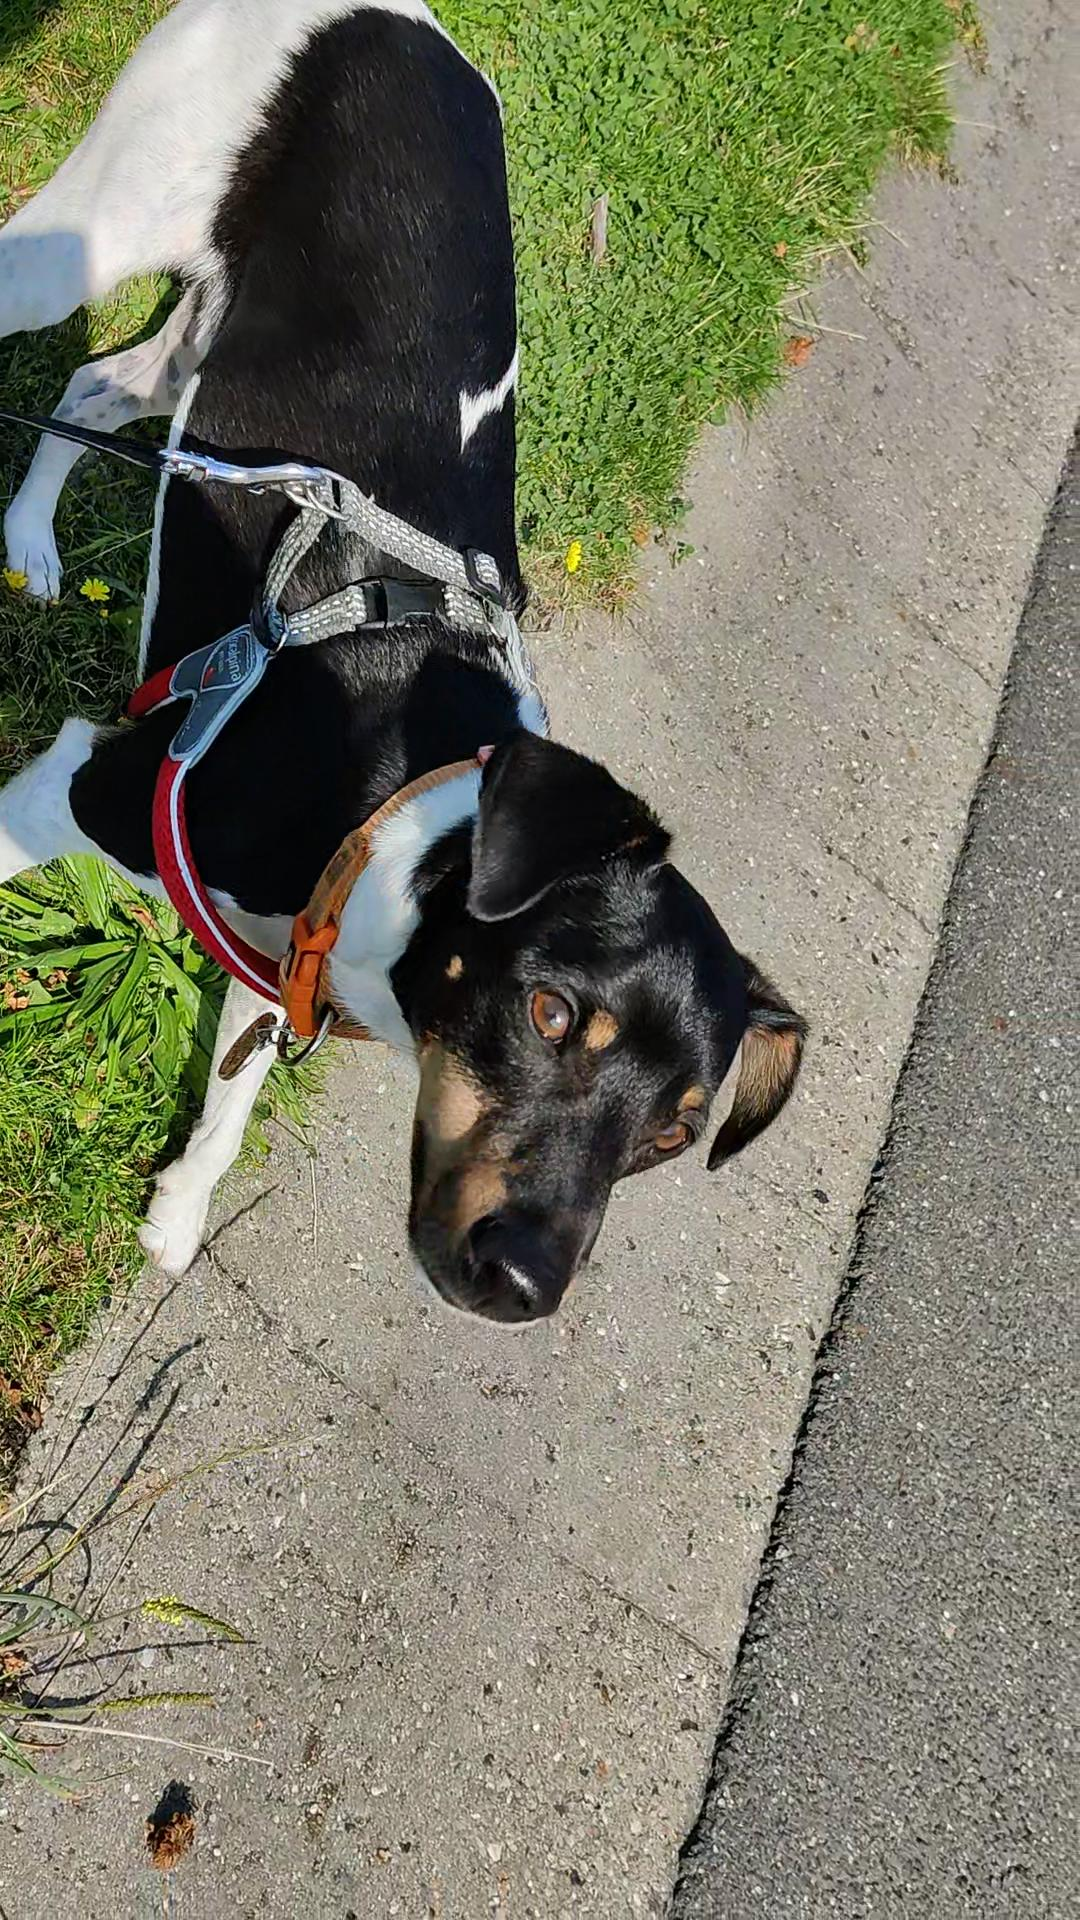Dog: (0, 0, 818, 1333)
